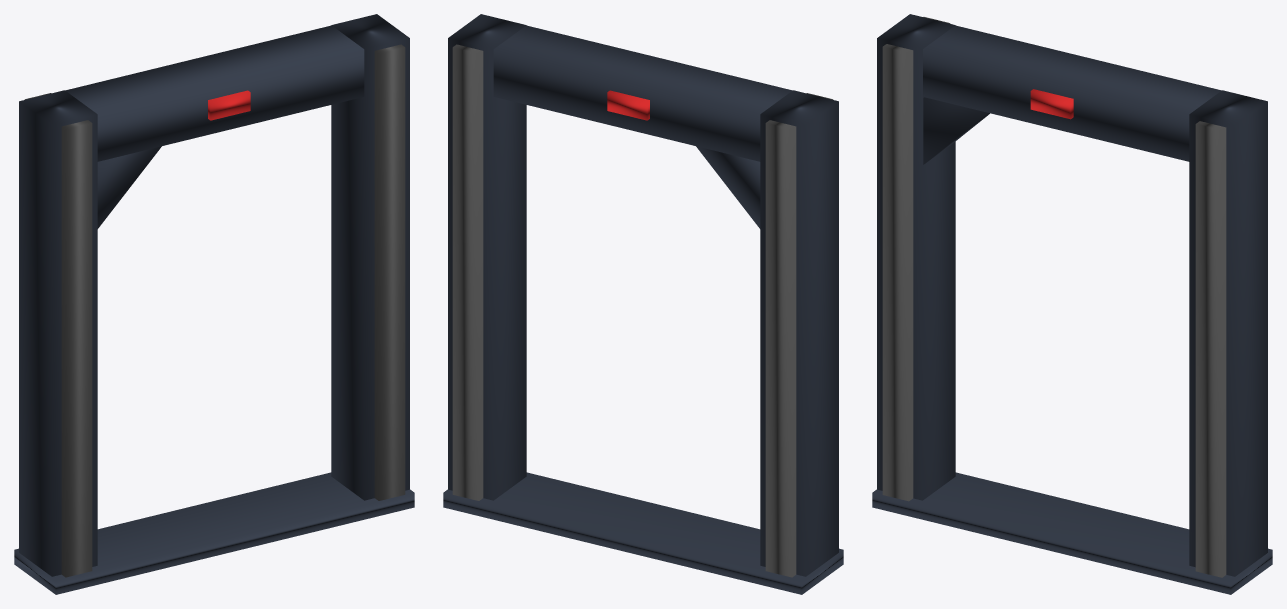
Rendered from door small 1 arc.fbx.
The picture shows the model from 3 angles, left to right: view 1: azimuth 30°, elevation 25°; view 2: azimuth 150°, elevation 25°; view 3: azimuth 330°, elevation 25°; orthographic projection.
Parts seen in each view (by area): view 1: PM3D_Plane3D193_022; view 2: PM3D_Plane3D193_022; view 3: PM3D_Plane3D193_022.
Part boxes in pixels (bbox=[...]): PM3D_Plane3D193_022: bbox=[14, 14, 414, 594]; PM3D_Plane3D193_022: bbox=[443, 14, 843, 594]; PM3D_Plane3D193_022: bbox=[872, 14, 1272, 594].
Bounding box in the file's own units: 252 × 313 × 50.67.
